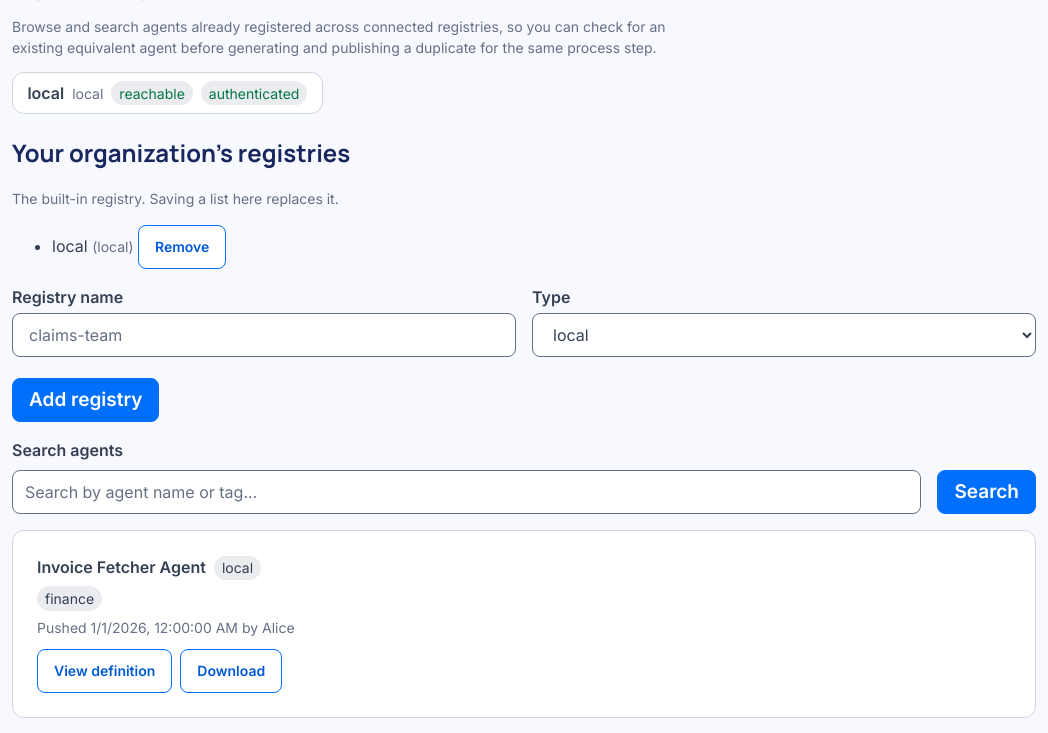
Test: RegistriesPage › expands an entry to show its full definition
Expected: the text "Invoice Fetcher Agent" is shown, [37,556,206,580]
Click the button "View definition" at (105, 671), box [37,649,172,693]
(page scrolled)
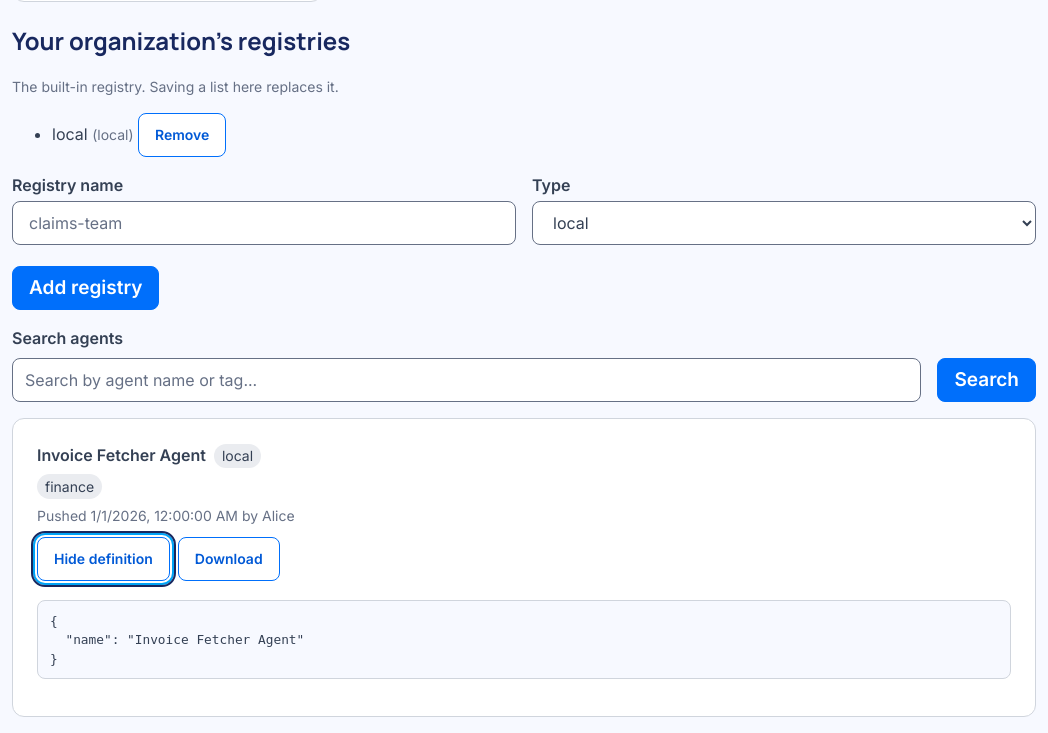
Expected: the text "{ \"name\": \"Invoice Fetcher Agent\" }" is shown, [37,600,1011,679]
